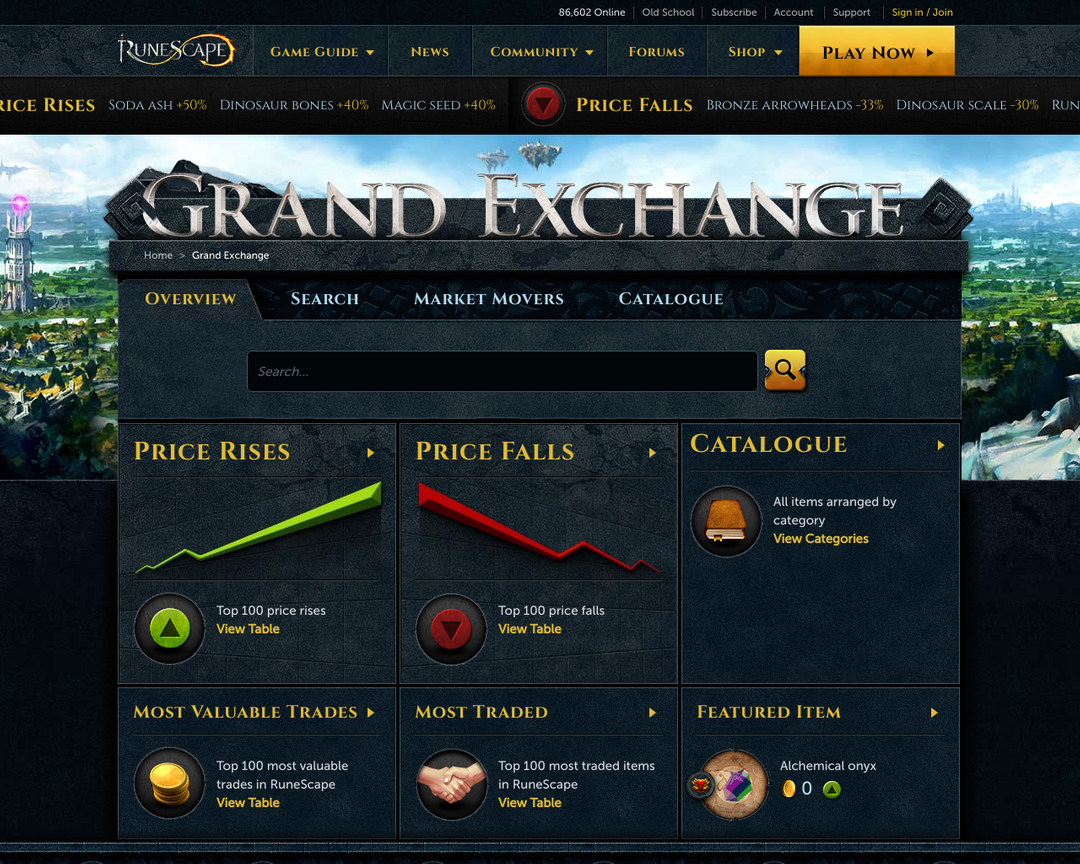Runescape: (112, 29, 243, 74)
